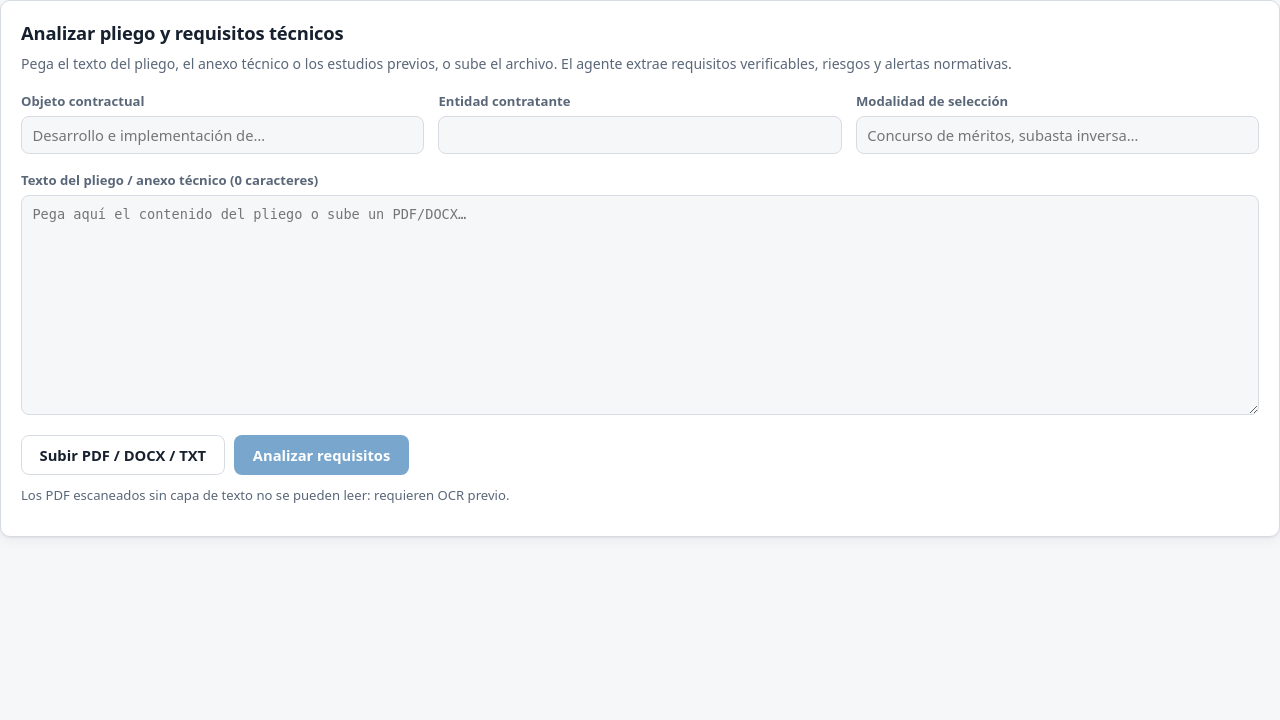
cancelación de operaciones largas › cancelar no deja un error en pantalla: fue una decisión del usuario
Type "El contratista debe desarrollar el portal ciudadano bajo microservicios." into the text box labelled "Texto del pliego / anexo técnico (0 caracteres)".
click(640, 305); type("El contratista debe desarrollar el portal ciudadano bajo microservicios.")  # box [21,195,1259,415]
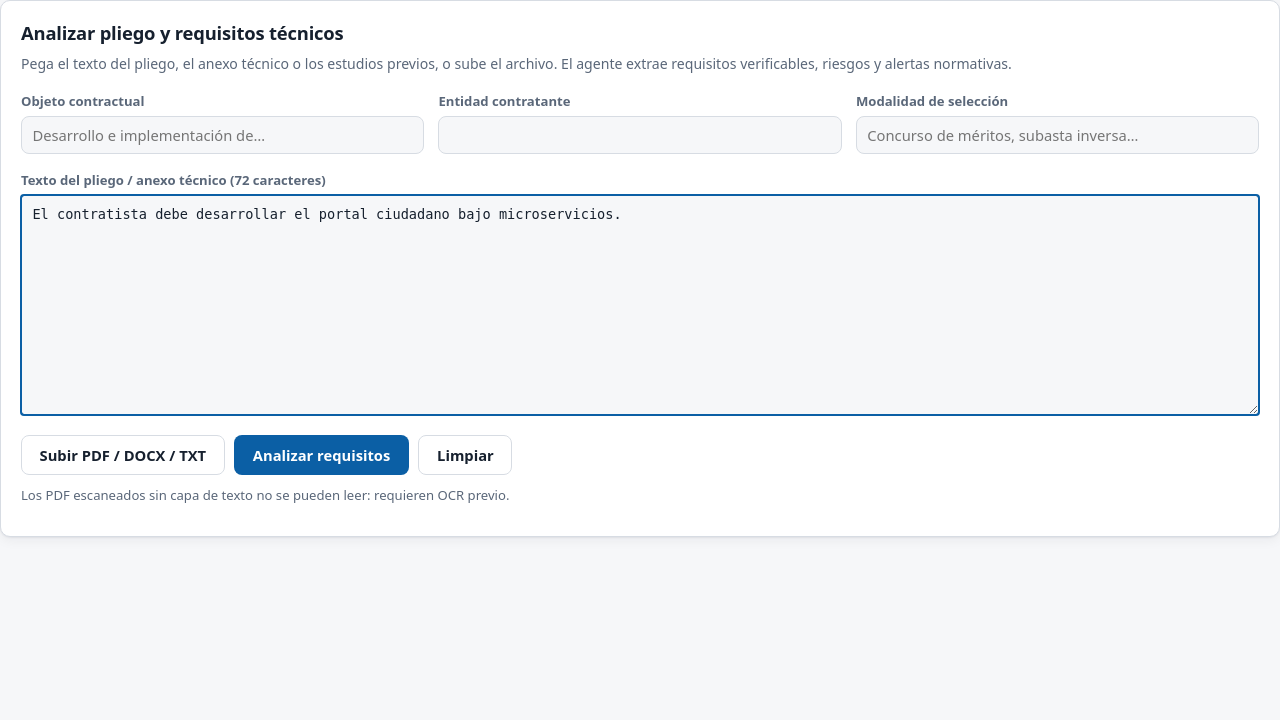
Click the button "Analizar requisitos".
click(322, 455)  # box [234,435,409,475]
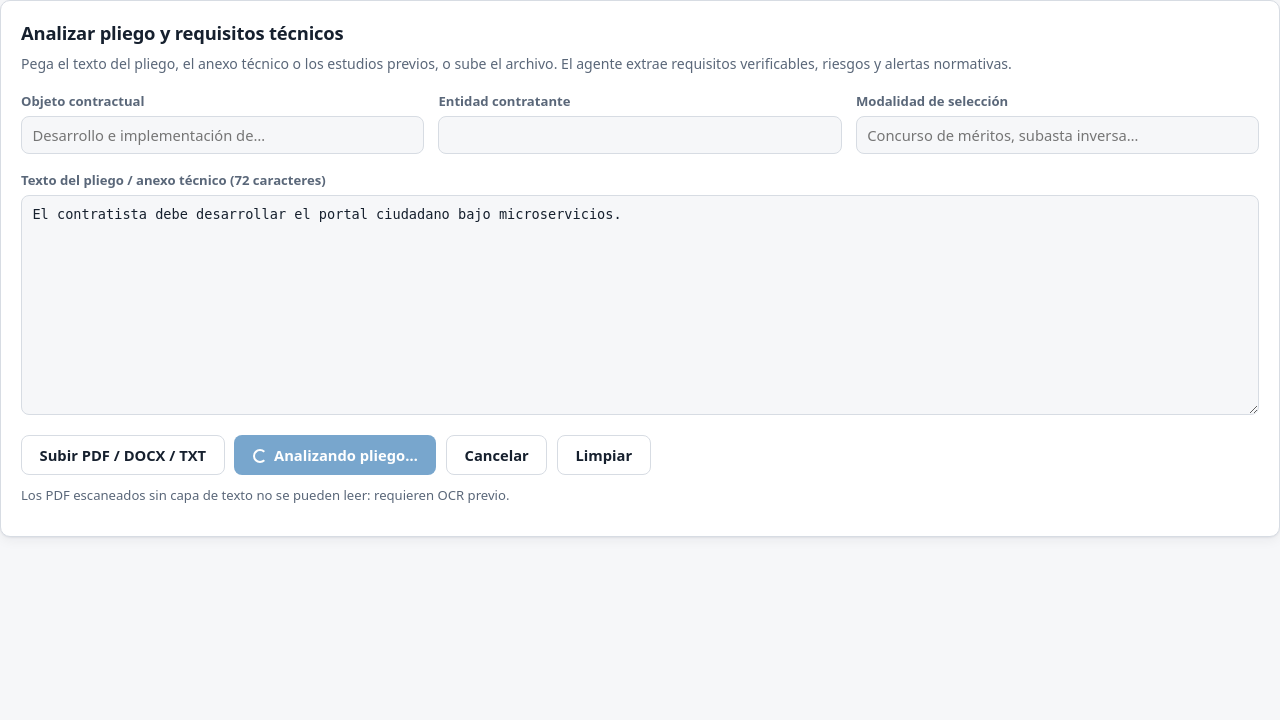
Click the button "Cancelar".
click(497, 455)  # box [446,435,547,475]
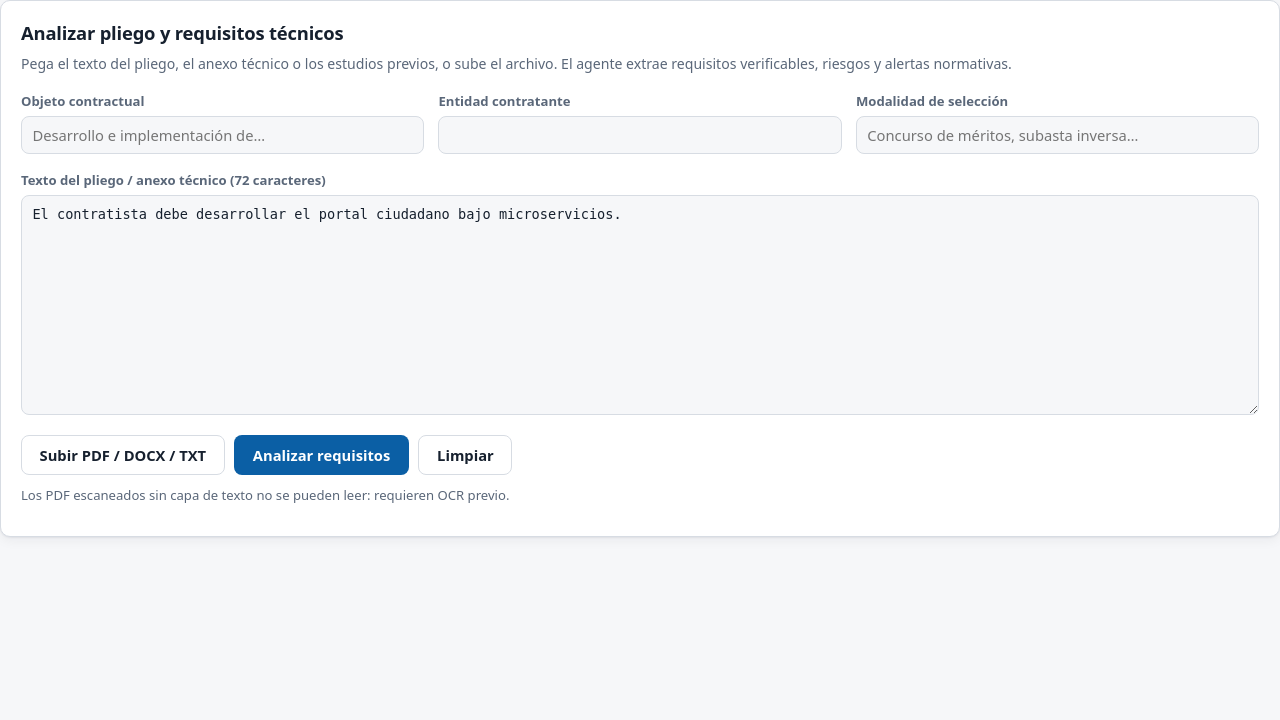
Check: the button "Analizar requisitos" is shown, box [234,435,409,475]
Check: the message "Analizando pliego…" is gone
